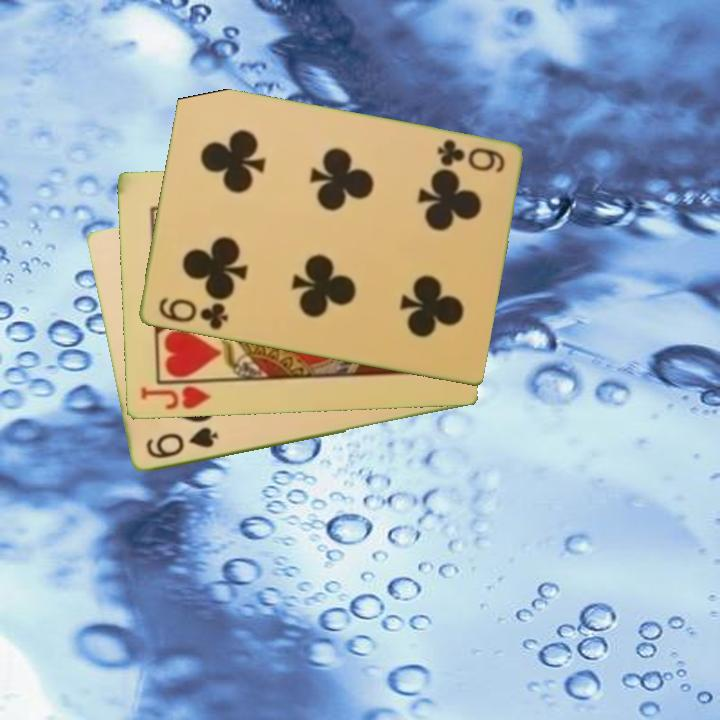6c: (433, 136, 507, 177), (154, 294, 231, 333)
6s: (142, 424, 221, 462)
Jh: (136, 383, 214, 413)
